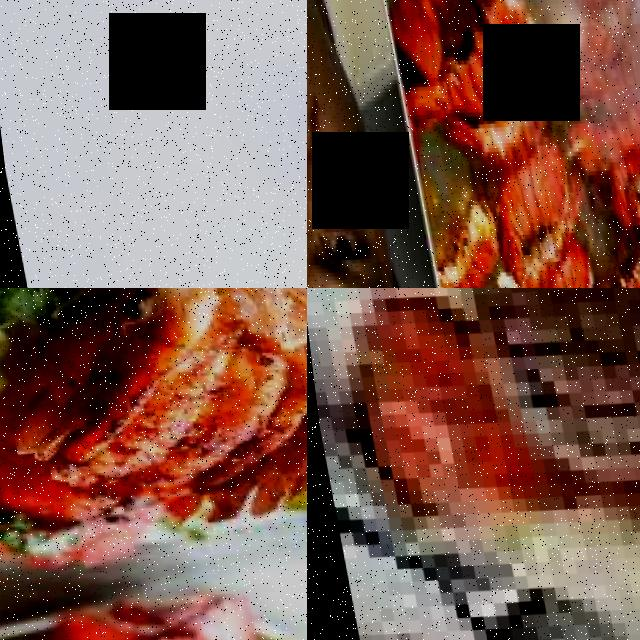lobster tails: (0, 288, 307, 571), (21, 596, 256, 640), (397, 54, 506, 131), (479, 155, 557, 260), (529, 242, 592, 288)
